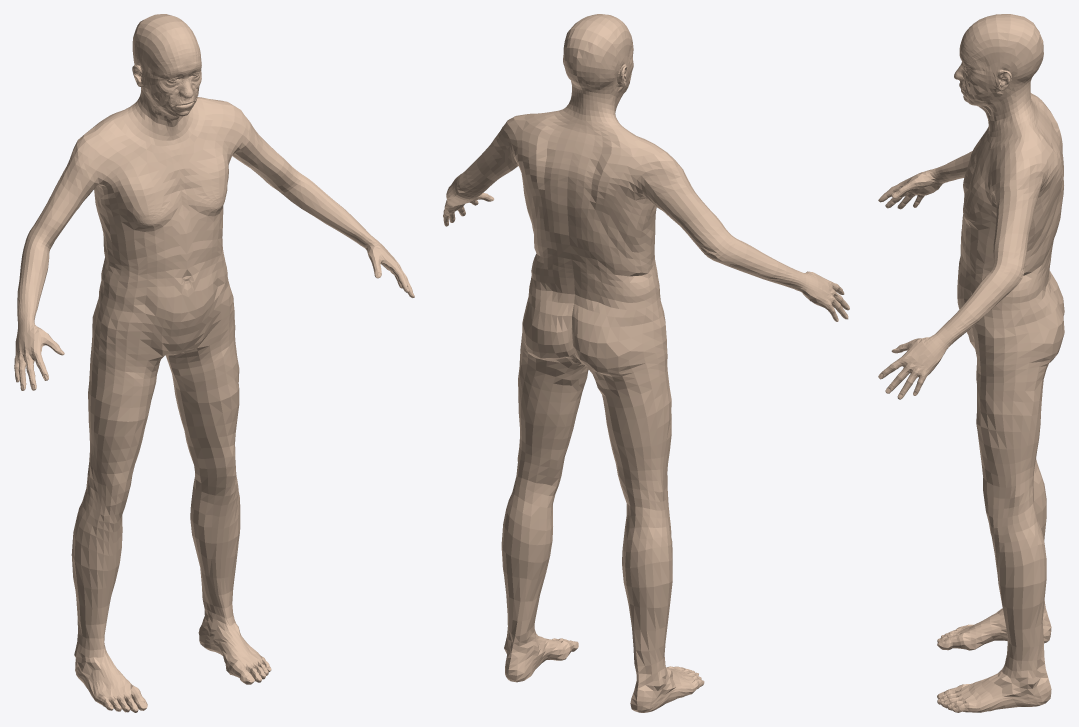
File: male-elder-average-toned.glb
The picture shows the model from 3 angles, left to right: view 1: azimuth 30°, elevation 25°; view 2: azimuth 150°, elevation 25°; view 3: azimuth 270°, elevation 25°; orthographic projection.
Parts seen in each view (by area): view 1: world; view 2: world; view 3: world.
Boxes of the visible parts, left/top/right/bottom form: world: left=14, top=14, right=414, bottom=712; world: left=443, top=14, right=849, bottom=712; world: left=878, top=14, right=1064, bottom=712.
Size of the model in its own units: 1.2 by 1.92 by 0.4932.
